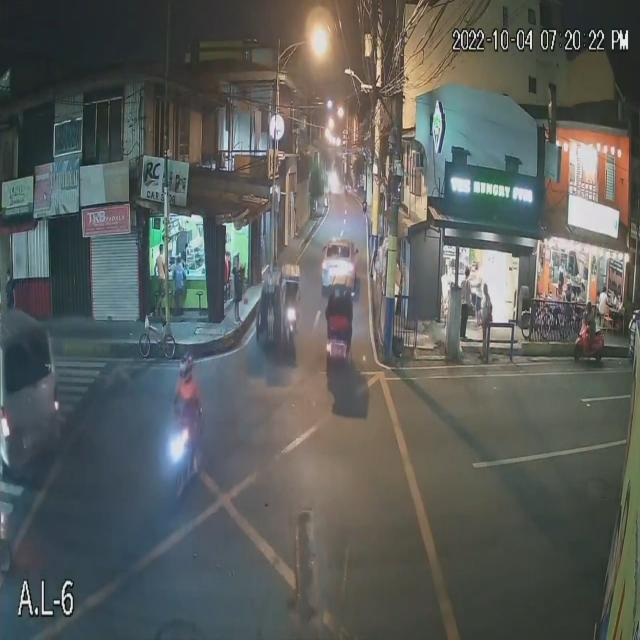Full-Faced: (176, 345, 196, 382)
